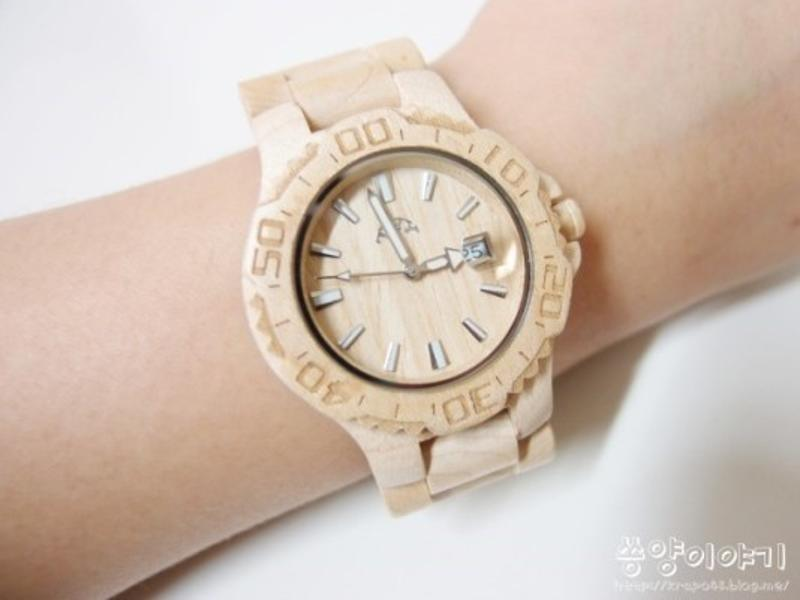watch: (240, 35, 592, 518)
